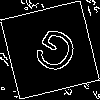G: (25, 25, 82, 85)
